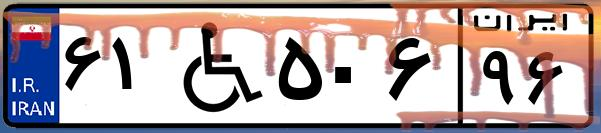0: (330, 28, 385, 110)
1: (110, 28, 158, 98)
5: (270, 28, 330, 110)
6: (385, 28, 445, 110), (57, 26, 110, 100), (525, 38, 570, 115)
9: (475, 38, 525, 113)
ژ (معلولین و جانبازان): (158, 12, 270, 120)
